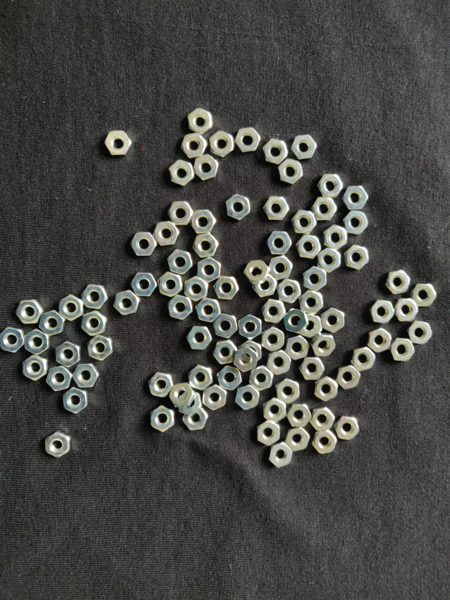nut: (15, 299, 44, 325), (39, 310, 66, 337), (81, 310, 108, 337), (87, 334, 114, 361), (55, 341, 82, 368), (63, 387, 89, 415), (45, 431, 71, 459), (181, 132, 208, 158), (291, 134, 318, 160), (193, 154, 219, 181), (169, 160, 195, 187), (153, 221, 180, 247), (24, 329, 50, 356), (46, 366, 73, 392), (235, 384, 261, 411), (202, 384, 228, 411), (170, 382, 197, 408), (104, 130, 132, 155), (263, 139, 289, 165), (278, 158, 304, 184), (157, 272, 183, 298), (22, 355, 48, 381), (167, 295, 193, 321), (336, 365, 362, 391), (351, 346, 377, 372), (285, 427, 311, 453), (188, 108, 213, 135), (226, 194, 251, 221), (192, 233, 219, 258), (113, 291, 140, 316), (59, 295, 84, 322), (73, 363, 100, 388), (276, 378, 301, 405), (268, 442, 293, 469), (1, 326, 25, 354), (151, 405, 175, 433), (209, 131, 234, 157), (235, 127, 261, 152), (343, 211, 369, 236), (344, 245, 370, 270), (277, 278, 302, 304), (213, 314, 239, 339), (261, 299, 287, 324), (284, 309, 310, 334), (368, 328, 393, 354), (267, 350, 292, 376), (212, 340, 238, 365), (249, 366, 274, 392), (149, 372, 174, 398), (287, 403, 313, 428), (312, 430, 338, 455), (131, 232, 158, 256), (190, 210, 217, 234), (263, 196, 290, 220), (342, 186, 369, 210), (311, 197, 338, 221), (131, 273, 158, 297), (81, 285, 108, 309), (266, 231, 293, 255), (318, 247, 342, 274), (197, 257, 221, 284), (244, 260, 271, 284), (315, 376, 339, 403), (234, 346, 258, 373), (263, 397, 287, 424), (168, 250, 193, 275), (297, 235, 322, 260), (196, 298, 221, 323), (299, 290, 324, 315), (408, 320, 433, 345), (386, 270, 411, 295), (217, 366, 242, 391), (317, 174, 343, 198), (292, 210, 318, 234), (324, 225, 348, 251), (303, 266, 327, 292), (187, 326, 213, 350), (322, 307, 346, 333), (300, 357, 326, 381), (390, 338, 416, 362), (286, 335, 310, 361), (189, 365, 213, 391), (179, 392, 203, 418), (310, 408, 336, 432), (257, 420, 281, 446), (239, 314, 262, 341), (214, 276, 239, 300), (269, 256, 293, 281), (253, 274, 278, 298), (311, 333, 336, 357), (370, 300, 395, 324), (335, 416, 360, 440), (168, 202, 194, 225), (185, 276, 208, 302), (411, 284, 437, 307), (262, 326, 285, 352), (182, 408, 209, 430), (299, 314, 323, 338), (395, 298, 419, 322), (238, 340, 262, 363)
